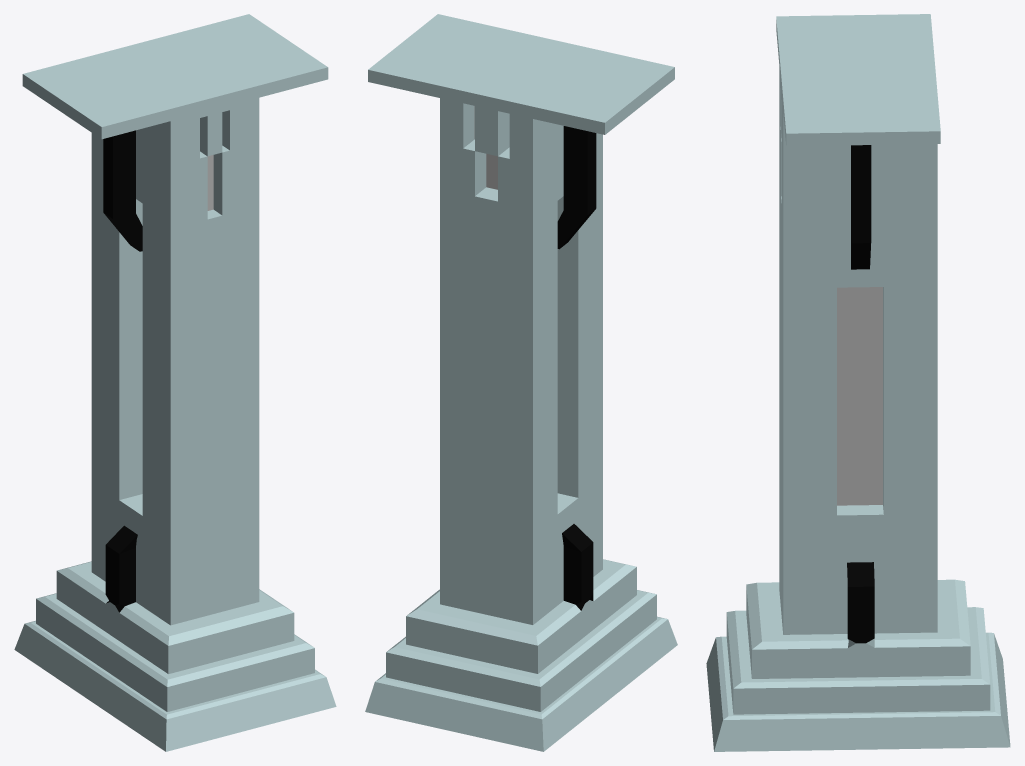
The model's file is Solar-Pillar.fbx.
3 renders of one model, left to right at view 1: azimuth 30°, elevation 25°; view 2: azimuth 150°, elevation 25°; view 3: azimuth 270°, elevation 25°, orthographic. The views are drawn at different scales.
Visible parts, largest first — view 1: Cube.049; view 2: Cube.049; view 3: Cube.049.
Part boxes in pixels (bbox=[...]): Cube.049: bbox=[14, 14, 336, 751]; Cube.049: bbox=[365, 14, 677, 751]; Cube.049: bbox=[706, 14, 1010, 751].
Bounding box in the file's own units: 459 × 1128 × 492.
